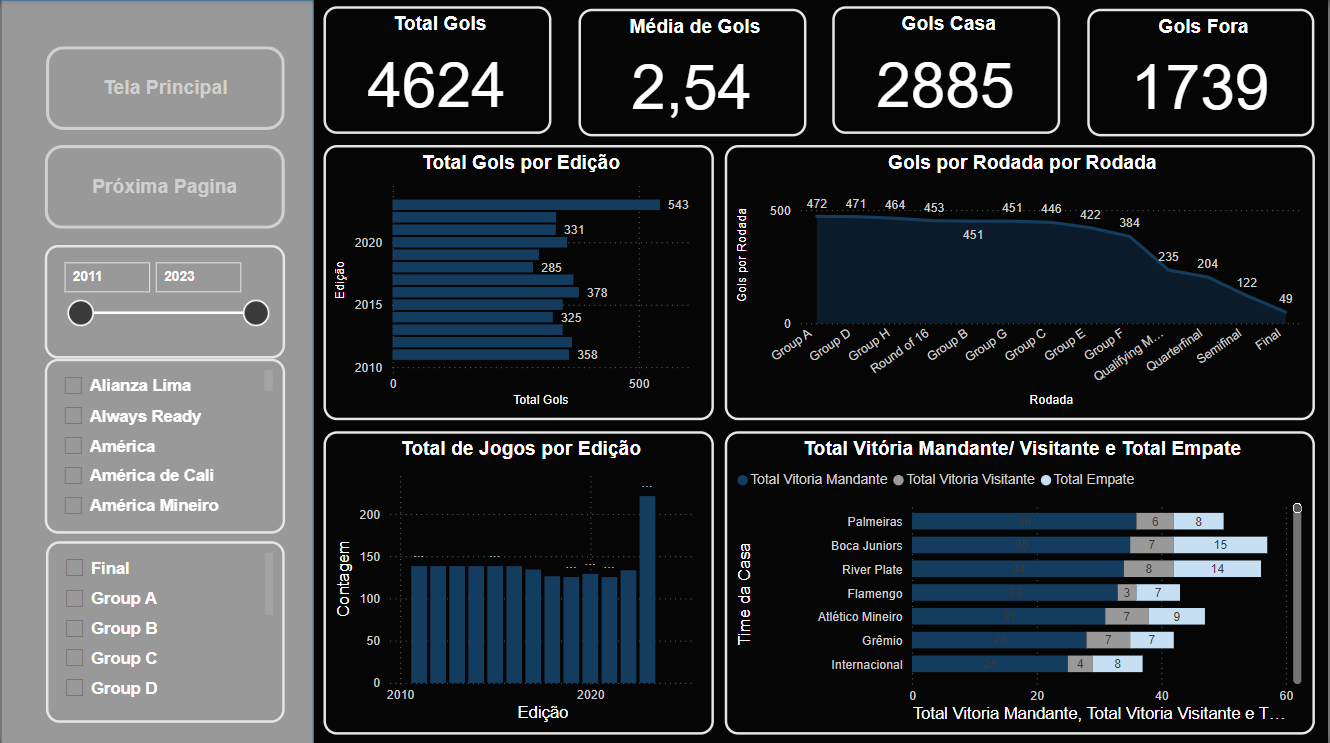

The page's visual inventory and layout, read from the dashboard file:
{"tool":"powerbi","page":{"name":"Página 1","canvas":[1280,720],"ordinal":0},"visuals":[{"type":"columnChart","fields":{"Category":["libertadores-results-ds.Edição"],"Y":["Medidas.Contagem"]},"box":[311.3,416.2,376.4,293.2],"z":0},{"type":"clusteredBarChart","fields":{"Category":["libertadores-results-ds.Edição"],"Y":["Medidas.Total Gols"]},"box":[311.3,139.9,376.4,265.4],"z":1000},{"type":"shape","box":[0,0,301.6,720.2],"z":2000},{"type":"card","title":"Média de Gols","fields":{"Values":["Medidas.Media Gols"]},"box":[557,8.4,220,123],"z":3000},{"type":"card","title":"Total Gols","fields":{"Values":["Medidas.Total Gols"]},"box":[311.3,6,220,123.1],"z":4000},{"type":"areaChart","fields":{"Category":["libertadores-results-ds.Rodada"],"Y":["Medidas.Gols por Rodada"]},"box":[698.5,139.9,569.4,265.4],"z":5000},{"type":"slicer","fields":{"Values":["libertadores-results-ds.Edição"]},"box":[42.2,236.5,231.6,109.8],"z":6000},{"type":"barChart","title":"Total Vitória Mandante/ Visitante e Total Empate","fields":{"Category":["libertadores-results-ds.Time da Casa"],"Y":["Medidas.Total Vitoria Mandante","Medidas.Total Vitoria Visitante","Medidas.Total Empate"]},"box":[698.5,416.2,569.4,293.2],"z":7000},{"type":"slicer","fields":{"Values":["libertadores-results-ds.Rodada"]},"box":[43.4,522.4,230.4,174.9],"z":8000},{"type":"slicer","fields":{"Values":["libertadores-results-ds.Time da Casa"]},"box":[42.2,346.2,231.6,168.9],"z":9000},{"type":"actionButton","title":"Princial","box":[43.4,44.6,230.4,80.8],"z":10000},{"type":"actionButton","title":"Princial","box":[42.2,139.9,231.6,80.8],"z":11000},{"type":"card","title":"Gols Fora","fields":{"Values":["Medidas.Gols Fora"]},"box":[1048.4,8.4,219.6,123.1],"z":12000},{"type":"card","title":"Gols Casa","fields":{"Values":["Medidas.Gols casa"]},"box":[802.7,6,220,123.1],"z":13000}]}

Visuals, with their boxes in screenshot pixels (x1, y1, x2, y2), scaled from the page's 1280x720 canvas onto the 1330x743 screenshot:
columnChart - libertadores-results-ds.Edição x Medidas.Contagem: rect(323, 429, 715, 732)
clusteredBarChart - libertadores-results-ds.Edição x Medidas.Total Gols: rect(323, 144, 715, 418)
shape: rect(0, 0, 313, 742)
"Média de Gols" card: rect(579, 9, 807, 136)
"Total Gols" card: rect(323, 6, 552, 133)
areaChart - libertadores-results-ds.Rodada x Medidas.Gols por Rodada: rect(726, 144, 1317, 418)
slicer - libertadores-results-ds.Edição: rect(44, 244, 284, 357)
"Total Vitória Mandante/ Visitante e Total Empate" barChart: rect(726, 429, 1317, 732)
slicer - libertadores-results-ds.Rodada: rect(45, 539, 284, 720)
slicer - libertadores-results-ds.Time da Casa: rect(44, 357, 284, 532)
"Princial" actionButton: rect(45, 46, 284, 129)
"Princial" actionButton: rect(44, 144, 284, 228)
"Gols Fora" card: rect(1089, 9, 1318, 136)
"Gols Casa" card: rect(834, 6, 1063, 133)
